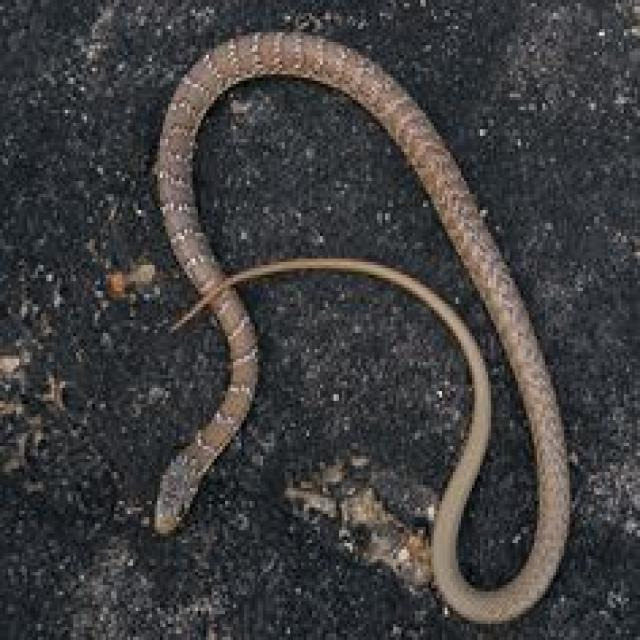Snake: (147, 26, 572, 624)
